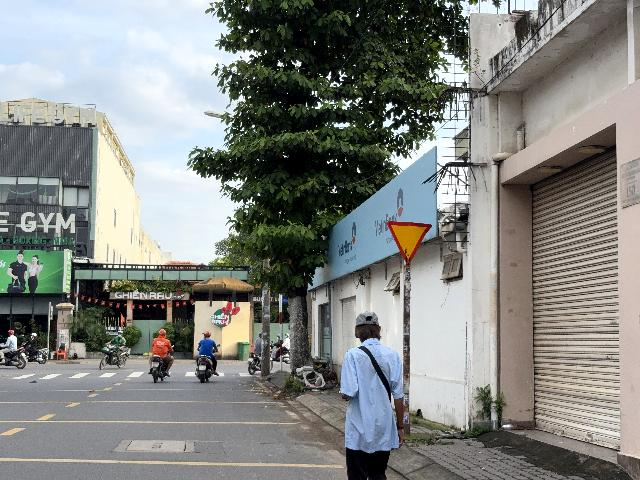giao-nhau-voi-duong-uu-tien: (388, 221, 432, 265)
